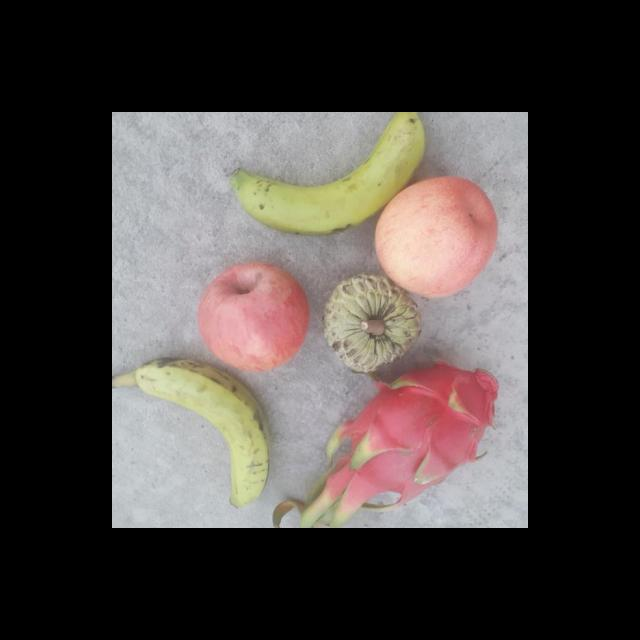Sakya fruit: (324, 274, 422, 374)
apple: (376, 175, 501, 304), (195, 261, 308, 374)
banana: (196, 112, 432, 237), (118, 358, 274, 512)
pitaya: (369, 358, 499, 506)
